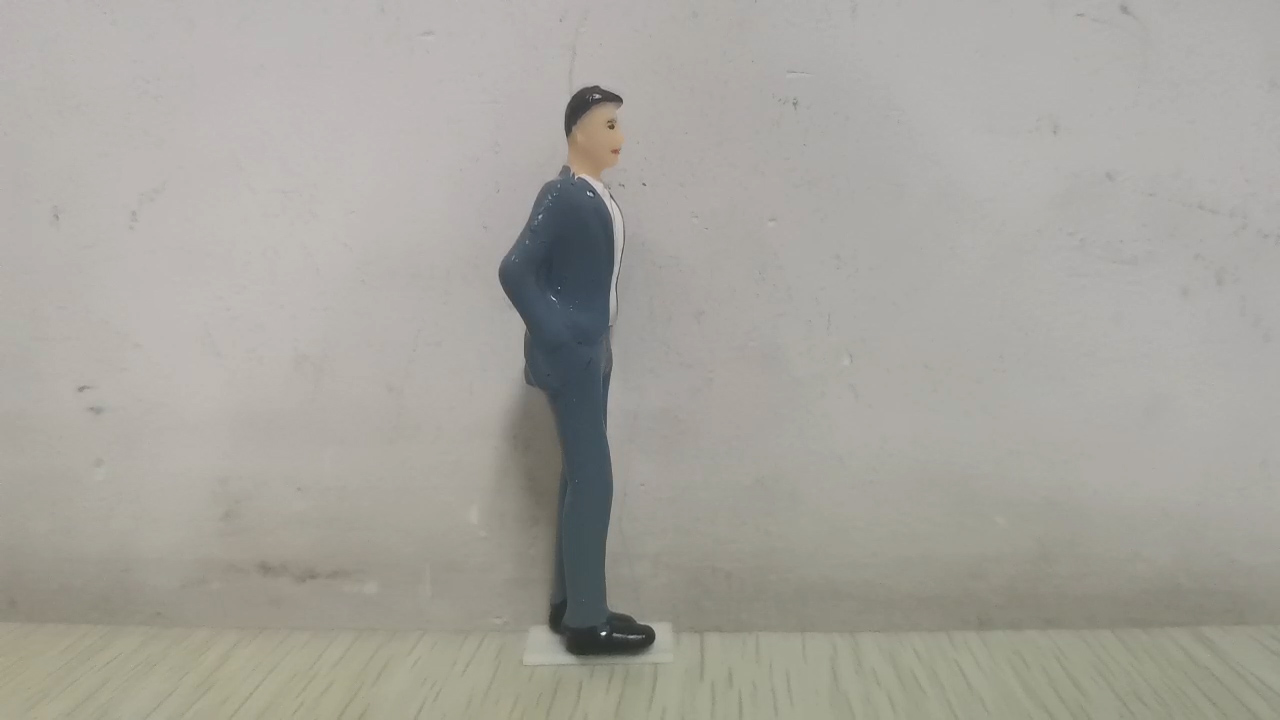person: (495, 82, 659, 658)
